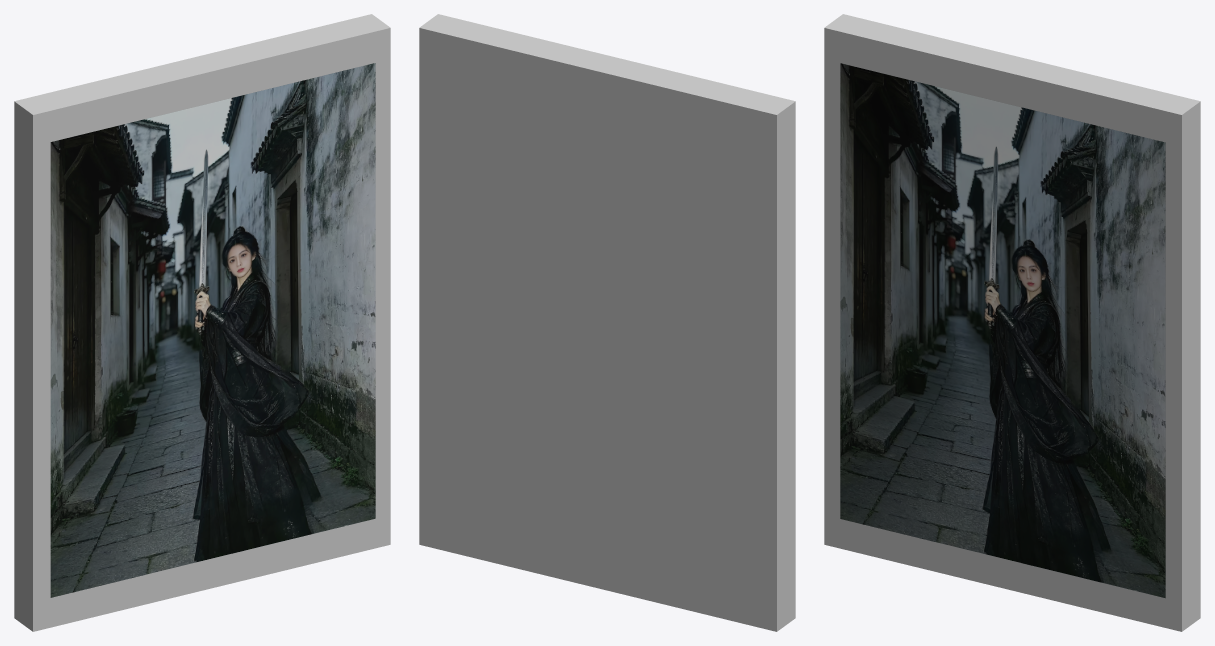
The model's file is zhen (4).glb.
The picture shows the model from 3 angles, left to right: view 1: azimuth 30°, elevation 25°; view 2: azimuth 150°, elevation 25°; view 3: azimuth 330°, elevation 25°; orthographic projection.
Visible parts, largest first — view 1: 平面, 立方体; view 2: 立方体; view 3: 平面, 立方体.
Part boxes in pixels (x1=…): 平面: x1=50, y1=63, x2=375, y2=597; 立方体: x1=14, y1=14, x2=390, y2=631; 立方体: x1=419, y1=14, x2=795, y2=631; 平面: x1=840, y1=63, x2=1165, y2=598; 立方体: x1=824, y1=14, x2=1200, y2=631.
Size of the model in its own units: 1.64 by 2.27 by 0.1551.
Materials: 1 (1 with a texture image).
